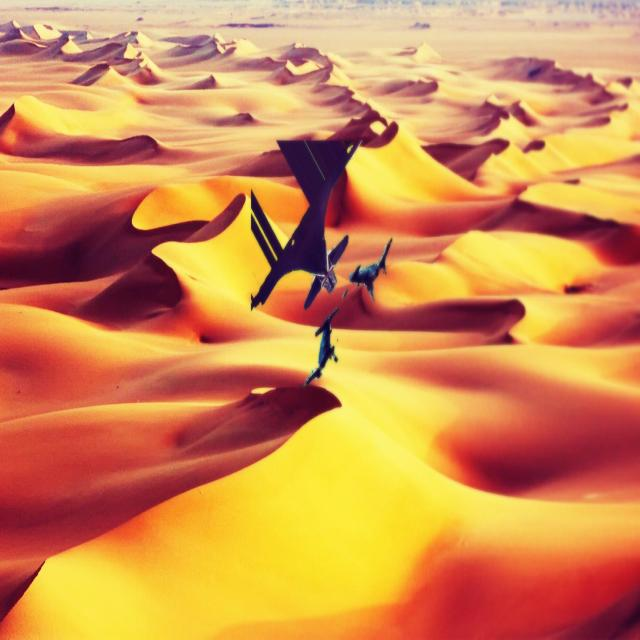airplane: (249, 136, 362, 311), (302, 306, 339, 388), (348, 236, 393, 302)
